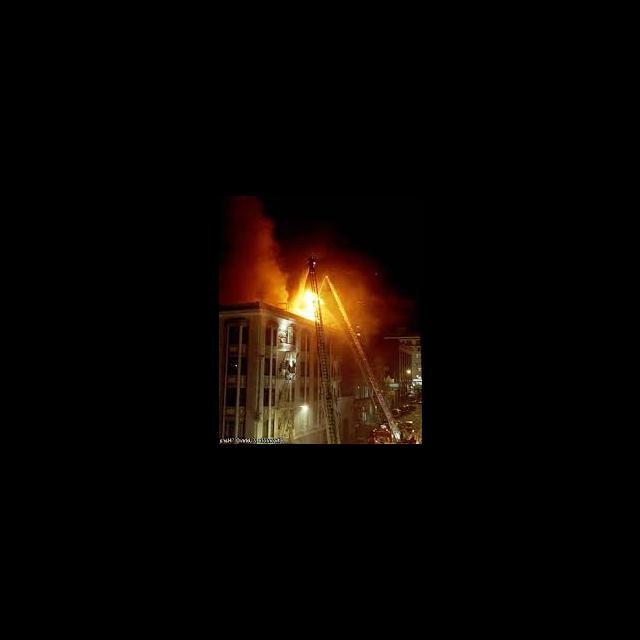Fire: (292, 285, 330, 318)
Smoke: (221, 197, 284, 305)
